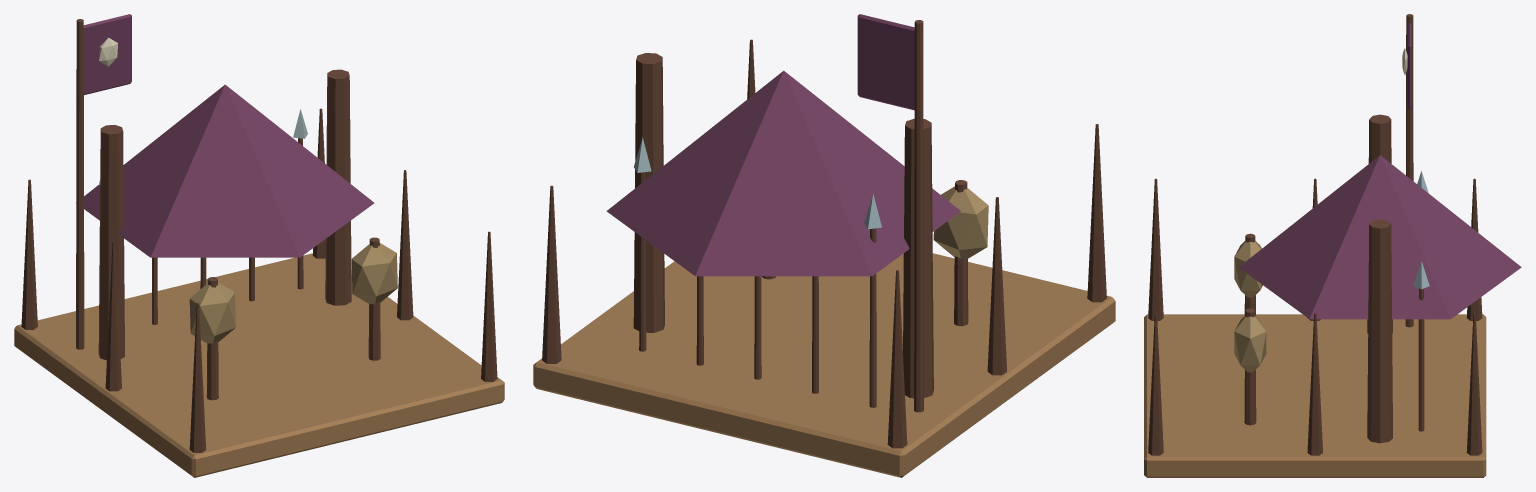
File: goblin_barracks.glb
The picture shows the model from 3 angles, left to right: view 1: azimuth 30°, elevation 25°; view 2: azimuth 150°, elevation 25°; view 3: azimuth 270°, elevation 25°; orthographic projection. The views are drawn at different scales.
Parts seen in each view (by area): view 1: Geometry; view 2: Geometry; view 3: Geometry.
Boxes of the visible parts, left/top/right/bottom form: Geometry: left=14, top=14, right=504, bottom=477; Geometry: left=533, top=14, right=1115, bottom=477; Geometry: left=1144, top=14, right=1521, bottom=477.
Size of the model in its own units: 2.9 by 3.1 by 3.2.
